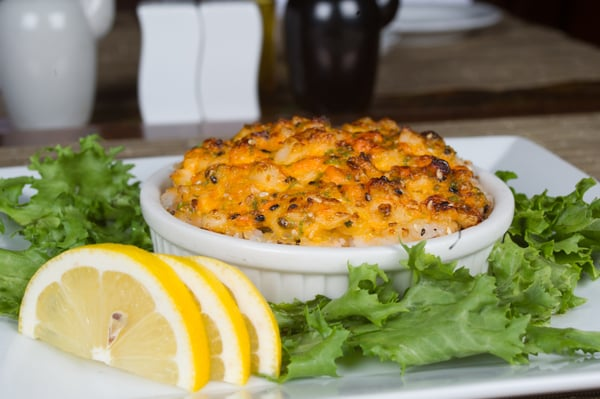sushi: (139, 131, 510, 305)
taco: (19, 243, 216, 391)
